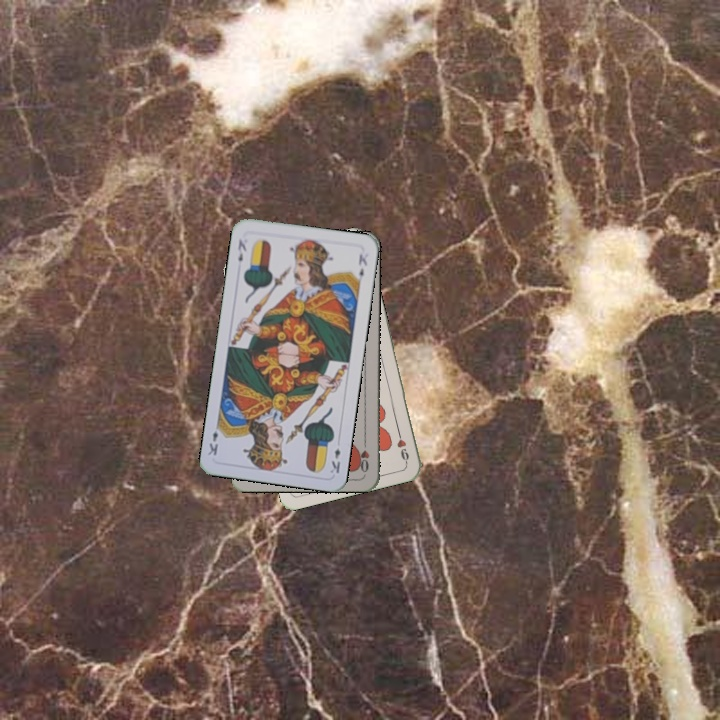EK: (326, 444, 343, 476), (234, 235, 249, 264)
H9: (393, 425, 412, 466)
HO: (355, 435, 372, 475)
